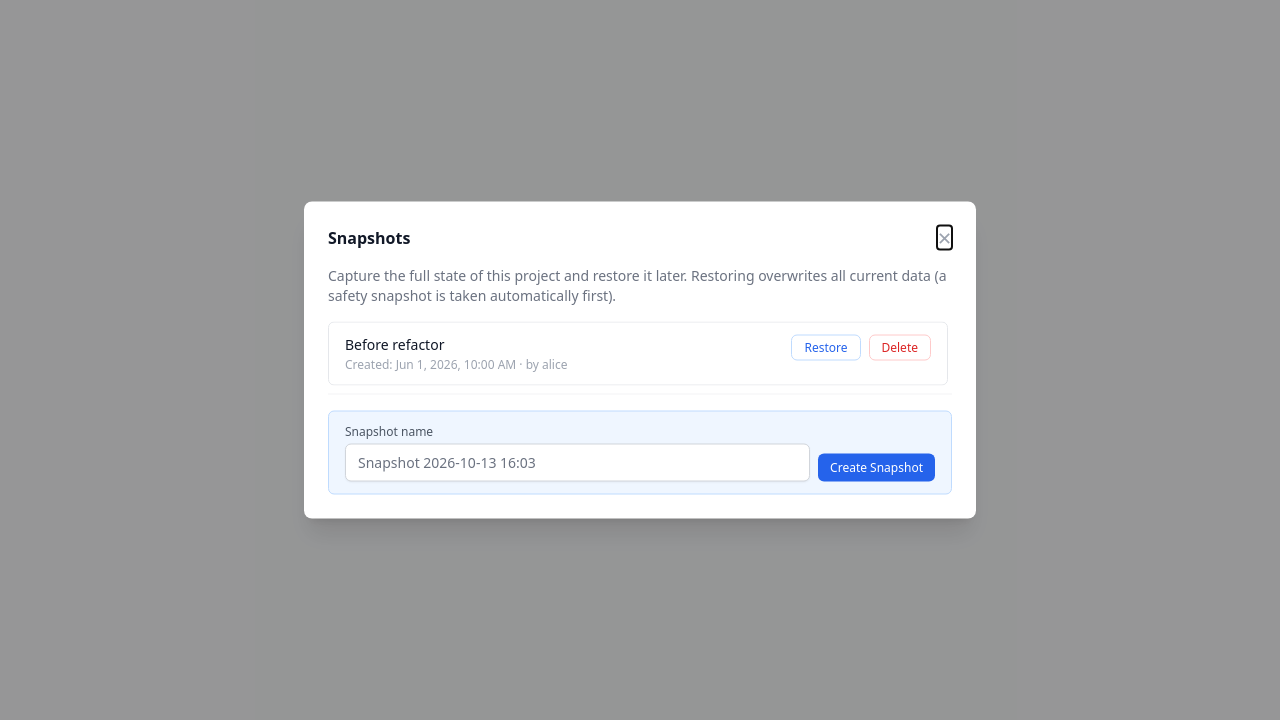
it: SnapshotsModal › opens a destructive confirm dialog on Delete click
Expected: the text "Before refactor" is shown, [345,334,444,354]
What coordinates should you click on to do the following:
click the button "Delete"
I would click on:
 (900, 348)
Its box is [868,334,931,360].
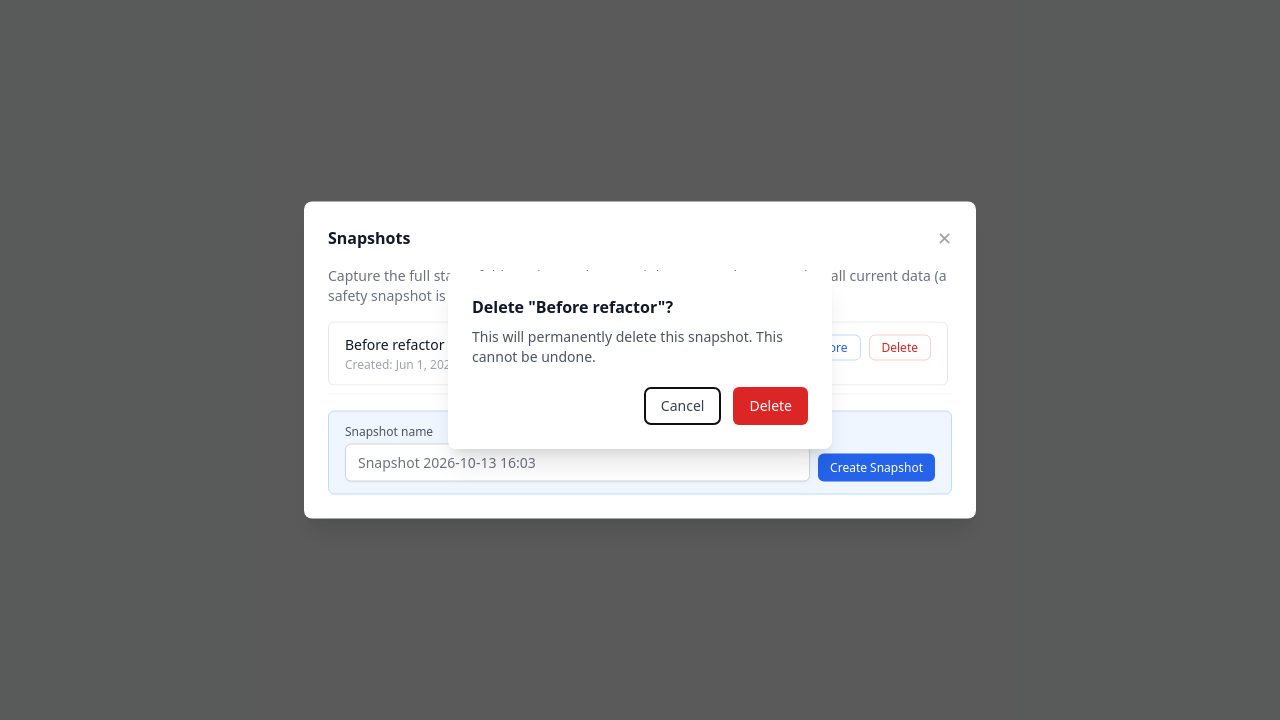
Now the heading "Delete \"Before refactor\"?" is shown, box [472,296,673,318]
